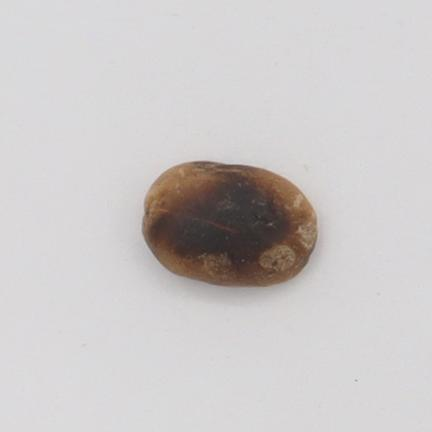partial-black: (143, 162, 316, 286), (143, 162, 316, 285)
